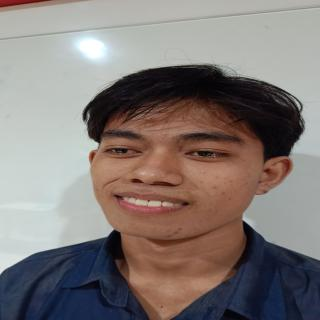Senang: (88, 93, 266, 244)
